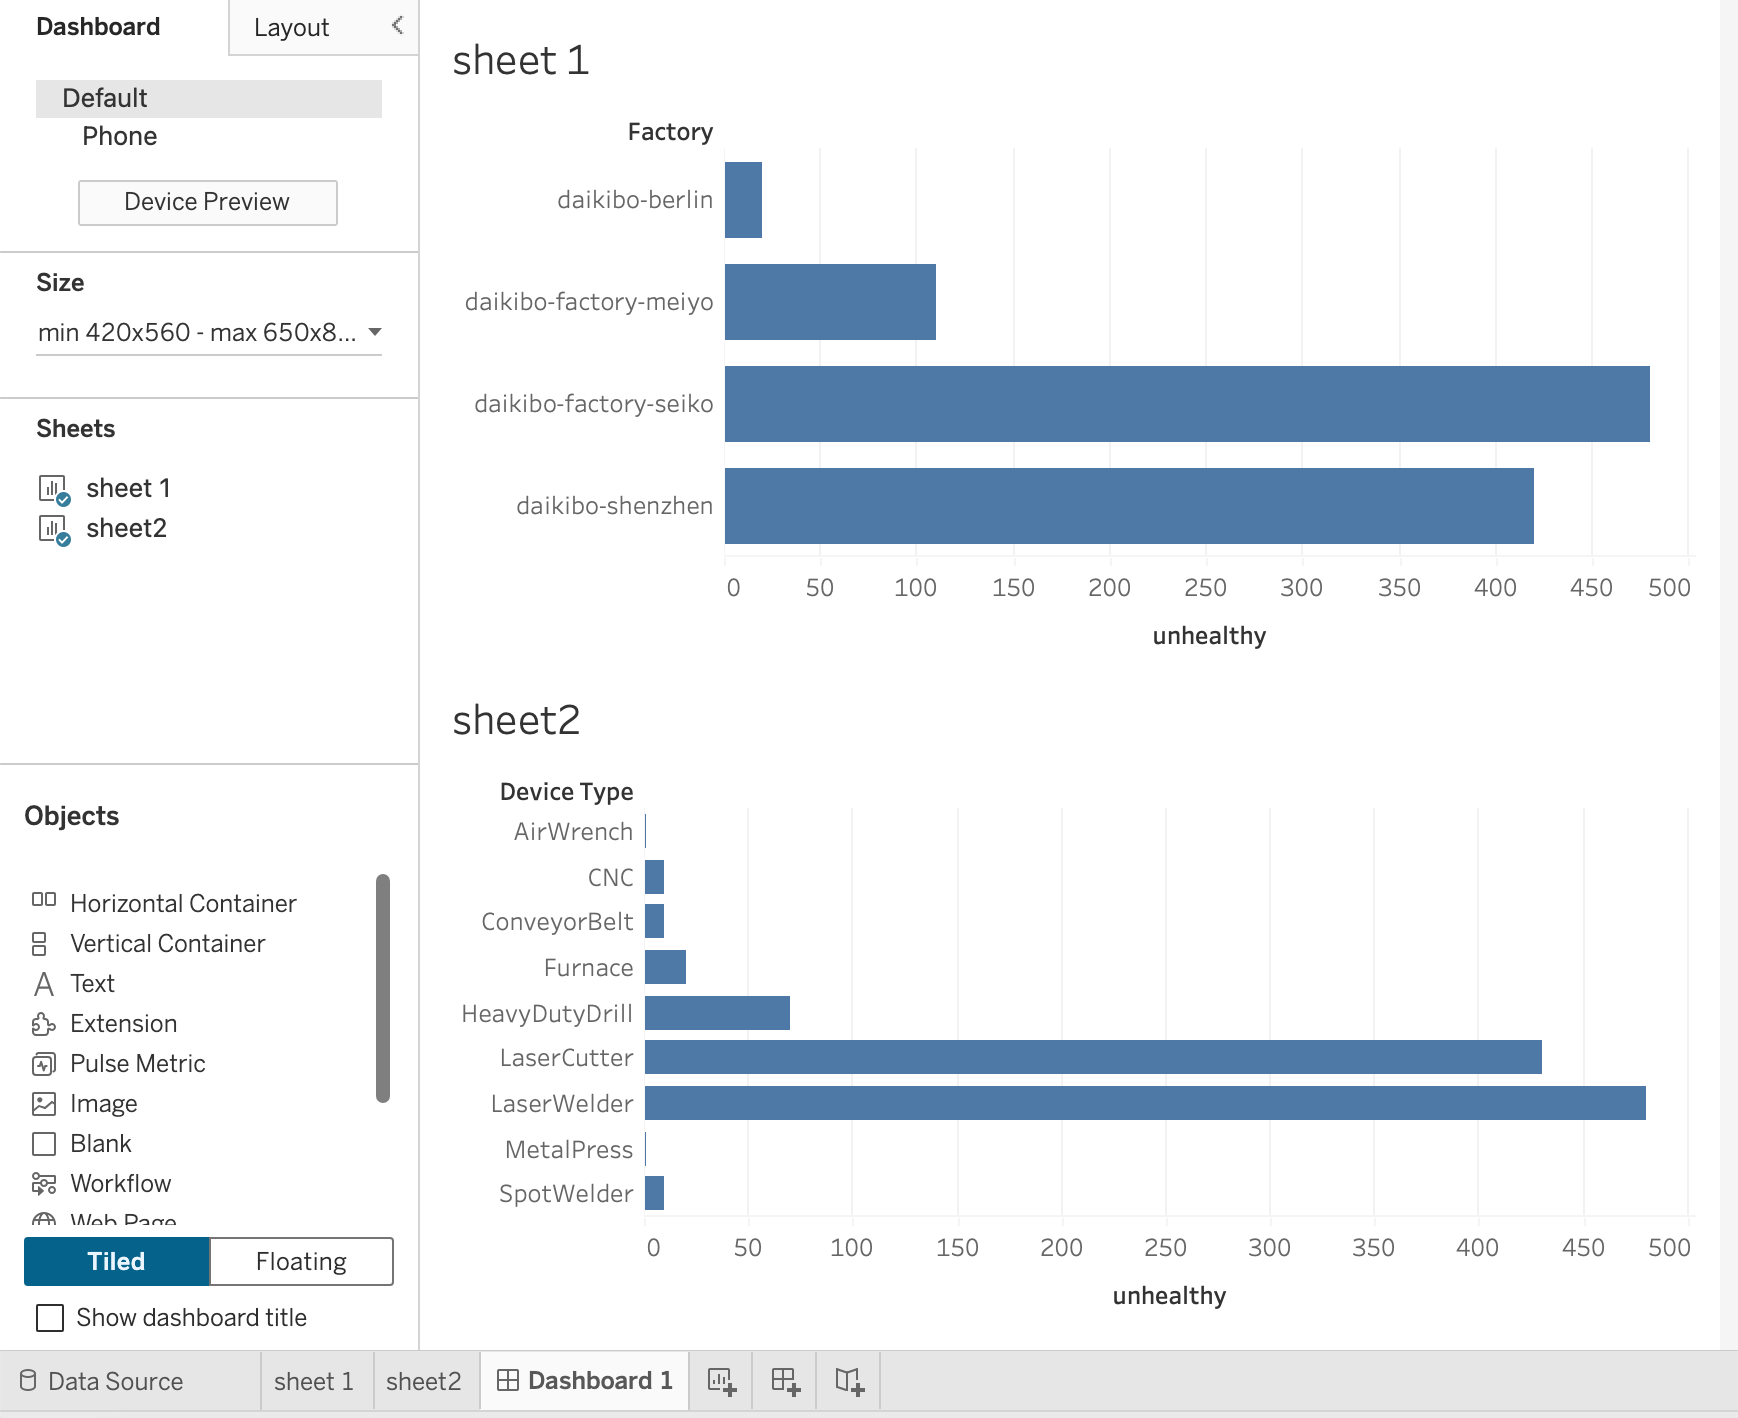

What the dashboard file says about the page in this screenshot:
{"tool":"tableau","page":{"name":"Dashboard 1","canvas":[650,860],"ordinal":0},"visuals":[{"type":"worksheet","title":"sheet 1","mark":"Automatic","rows":["factory"],"cols":["Calculation_3376941531676672"],"box":[8,10.2,634,419.8]},{"type":"worksheet","title":"sheet2","mark":"Automatic","rows":["deviceType"],"cols":["Calculation_3376941531676672"],"box":[8,430,634,419.8]}]}

Visuals, with their boxes on the page's 650x860 design canvas (x1, y1, x2, y2). These are canvas units, not pixel positions in the 1738x1418 screenshot, which may show the page scaled, cropped or inside an application window:
"sheet 1" worksheet: region(8, 10, 642, 430)
"sheet2" worksheet: region(8, 430, 642, 850)
